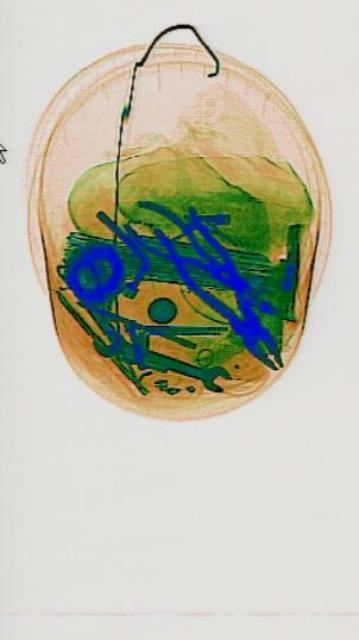Pliers: (148, 182, 291, 392), (121, 183, 282, 335)
Wrench: (89, 322, 232, 396)
